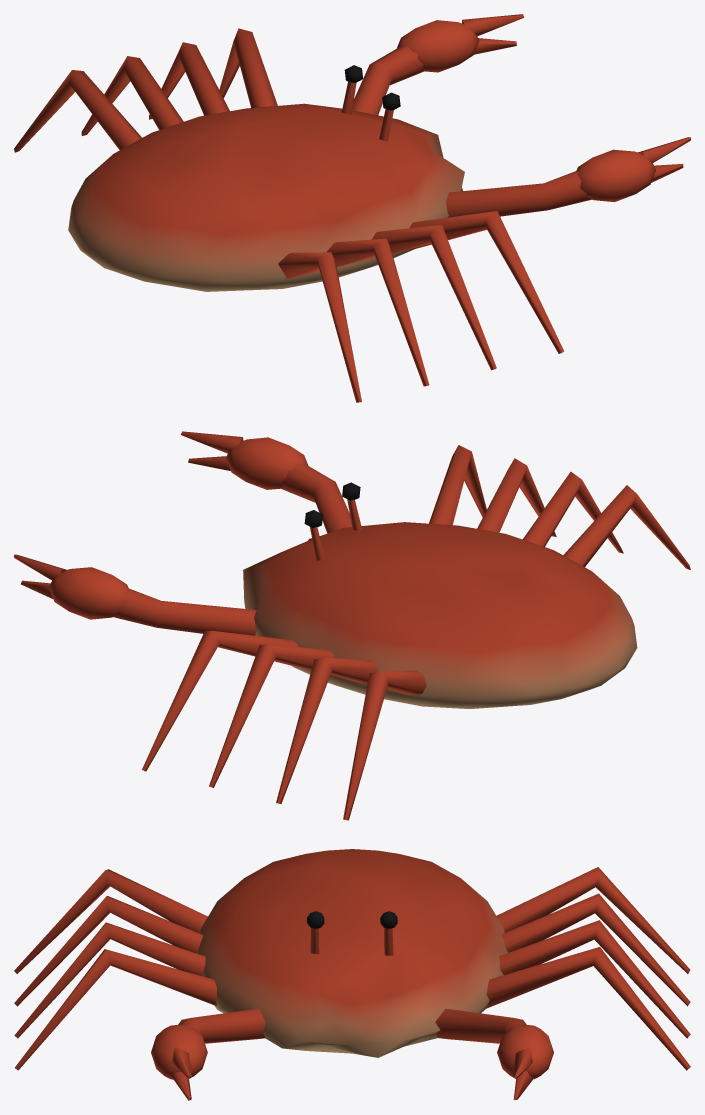
File: p_crab.fbx
The picture shows the model from 3 angles, top to bottom: view 1: azimuth 30°, elevation 25°; view 2: azimuth 150°, elevation 25°; view 3: azimuth 270°, elevation 25°; orthographic projection. The views are drawn at different scales.
Parts seen in each view (by area): view 1: model; view 2: model; view 3: model.
Boxes of the visible parts, <box> form: model: <box>14,14,690,402</box>; model: <box>14,431,690,820</box>; model: <box>14,849,690,1100</box>.
Size of the model in its own units: 0.6384 by 0.1792 by 0.7315.
